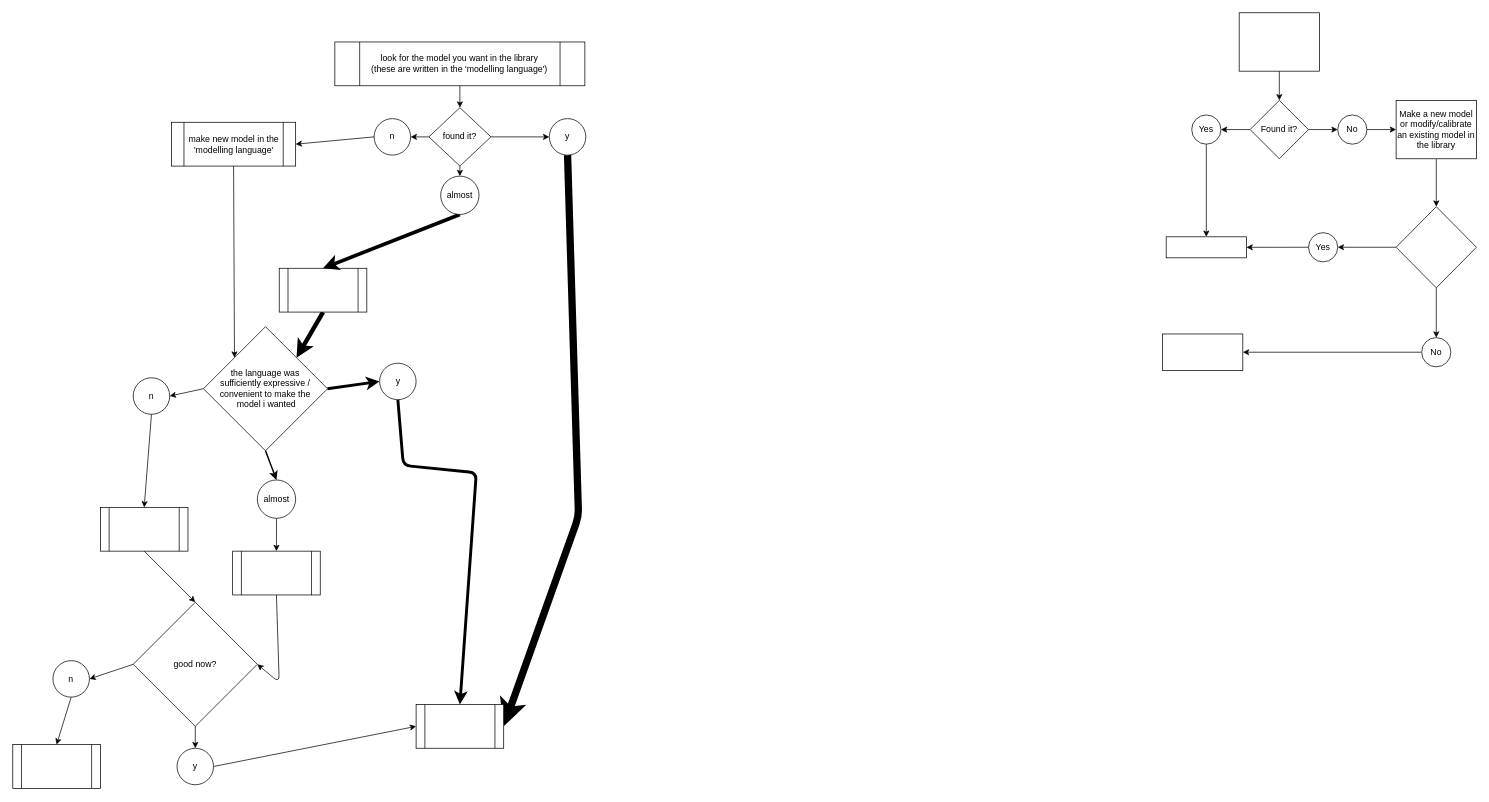
The diagram is 1489 pixels wide and 802 high, and some of its shapes have lost their labels. Here are the shapes that lost their labels. From the top down, the box of each, then its label:
(1238, 12, 1319, 71): Search for a model in the engine-agnostic model library
(1165, 236, 1246, 258): Use your model
(1395, 206, 1476, 288): I was able to make the model I need
(278, 268, 367, 312): modify a copy of an existing model currently in the library
(1162, 333, 1243, 370): Sorry that we couldn't help you today
(100, 507, 188, 551): define model closer to the engine
(232, 550, 320, 595): insert a few 'raw' engine expressions
(415, 704, 504, 748): use the model!
(12, 744, 100, 788): i'm sorry we couldn't help you today
